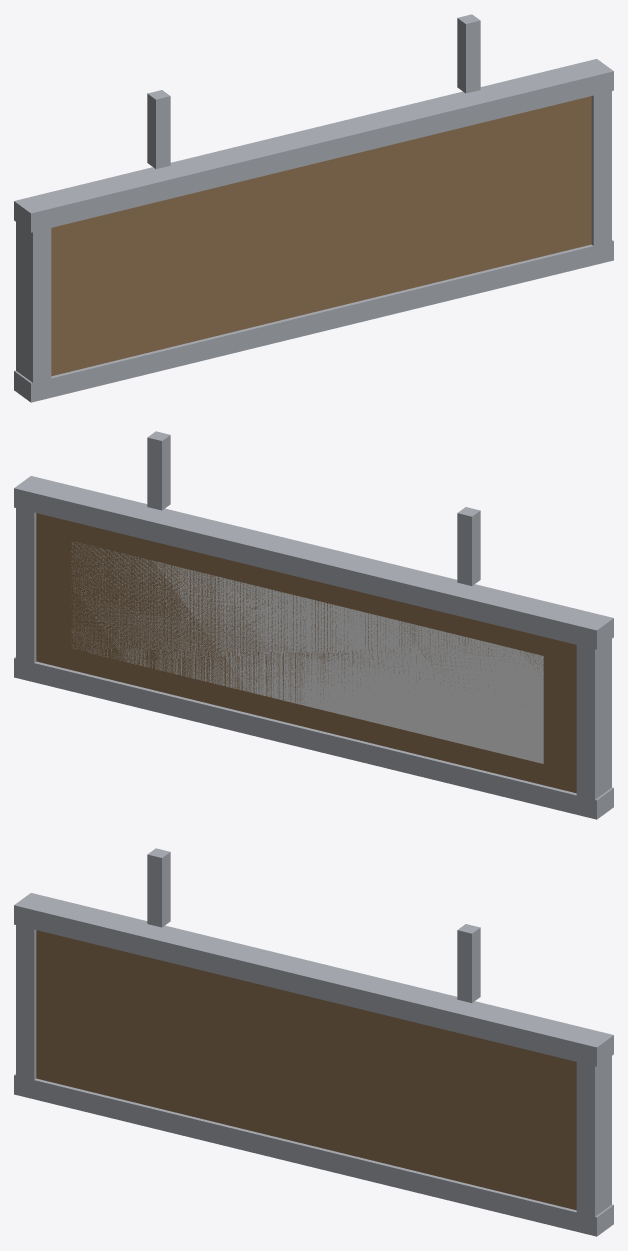
File: nameplate.glb
3 renders of one model, top to bottom at view 1: azimuth 30°, elevation 25°; view 2: azimuth 150°, elevation 25°; view 3: azimuth 330°, elevation 25°, orthographic.
Visible parts, largest first — view 1: board, rim (×4), hook (×2); view 2: board, ink, rim (×4), hook (×2); view 3: board, rim (×4), hook (×2).
Part boxes in pixels (x1,y1,x2,y2): board: (51,96,591,376); rim (×4): (14,59,613,402); hook (×2): (147,14,480,168); board: (36,513,576,793); ink: (71,542,543,763); rim (×4): (14,476,613,819); hook (×2): (147,431,480,585); board: (36,930,576,1210); rim (×4): (14,893,613,1236); hook (×2): (147,848,480,1002).
Bounding box in the file's own units: 1.58 × 0.695 × 0.08.
